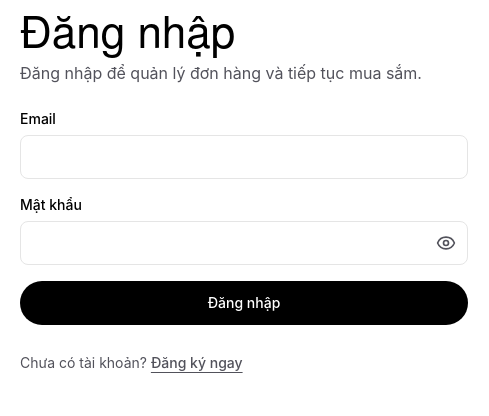
Test: LoginPage › shows the wrong-credentials message inline on 401
Type "buyer@example.com" into the field labelled "Email" at (244, 157), box top-left (20, 135), bottom-right (468, 179)
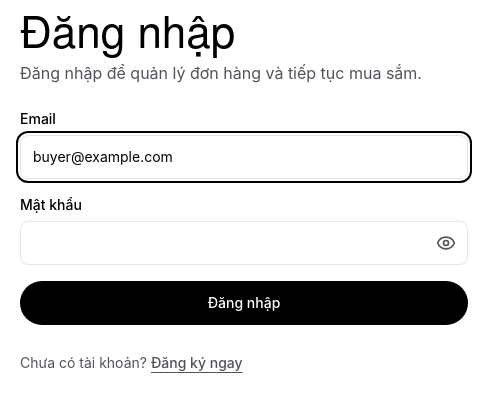
Type "secret123" into the password field labelled "Mật khẩu" at (244, 243), box top-left (20, 221), bottom-right (468, 265)
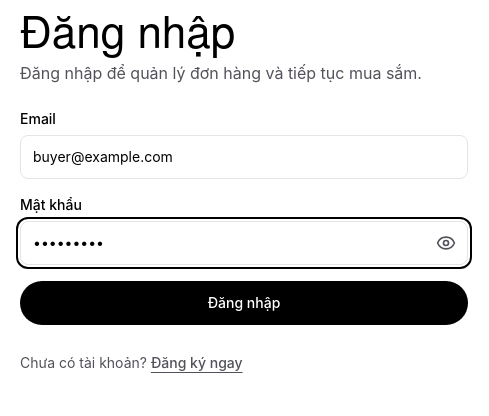
Click the button "Đăng nhập" at (244, 303), box top-left (20, 281), bottom-right (468, 325)
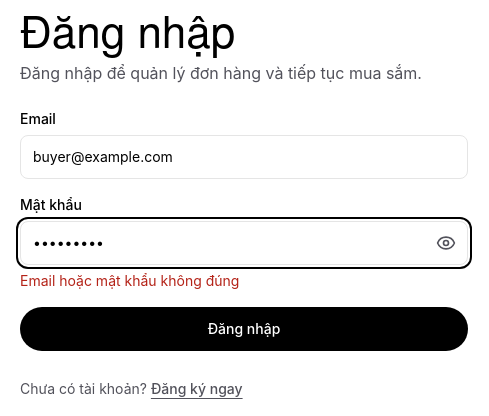
Result: the text "Email hoặc mật khẩu không đúng" is shown at top-left (20, 272), bottom-right (239, 289)
